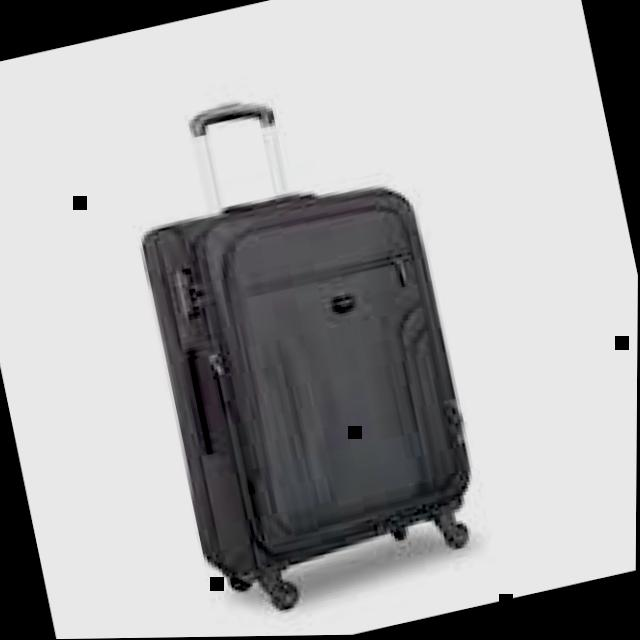luggage: (128, 157, 497, 594)
